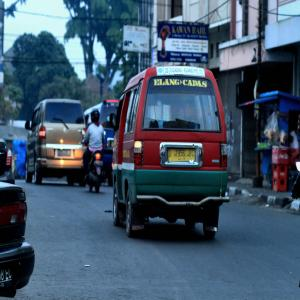Vehicle-registration-plate: (168, 149, 197, 164), (59, 151, 71, 157)
